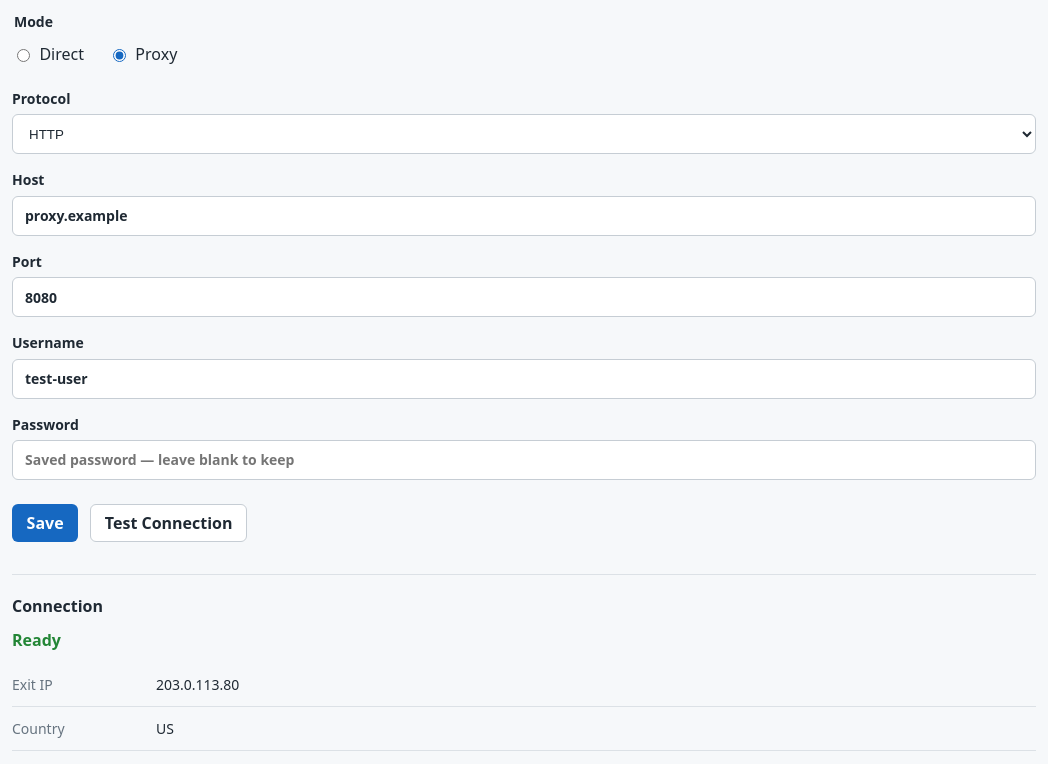
Scenario: a rejected connection test also clears the displayed Ready state and locality
Check: the text "Ready" is shown, box x1=12 y1=629 x2=61 y2=651
Step 1. Click the button "Test Connection" → [169, 523], box x1=90 y1=504 x2=247 y2=542
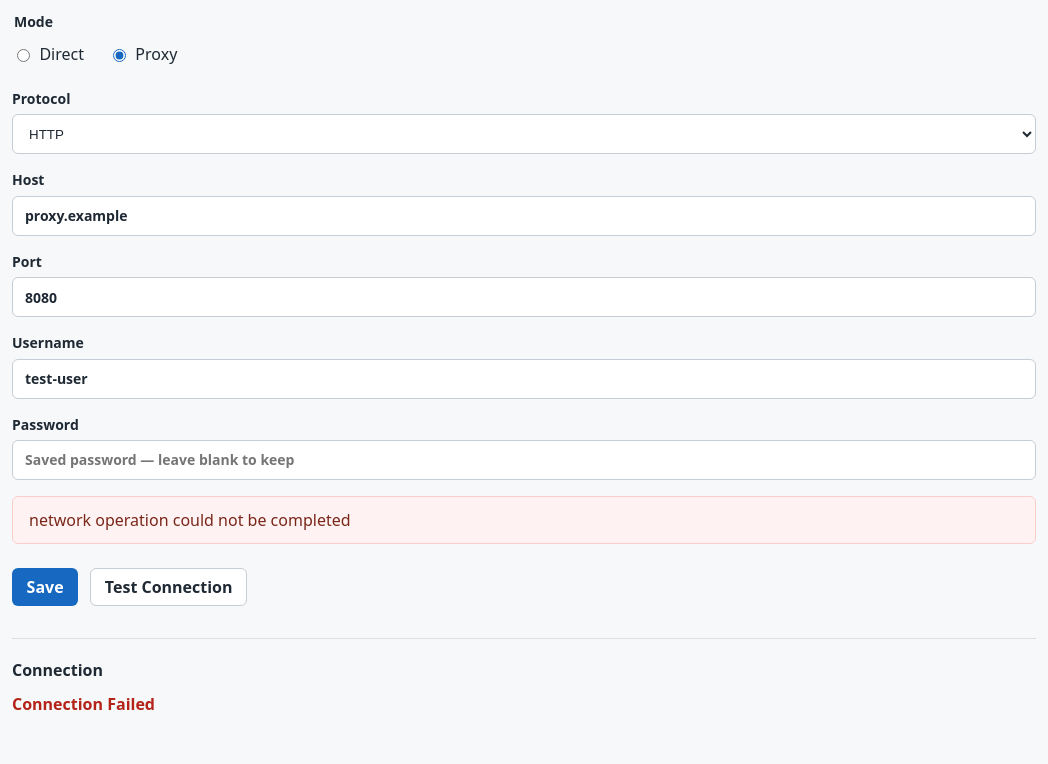
Check: the message reads "network operation could not be completed", box x1=29 y1=509 x2=351 y2=531
Check: the text "Connection Failed" is shown, box x1=12 y1=693 x2=155 y2=715
